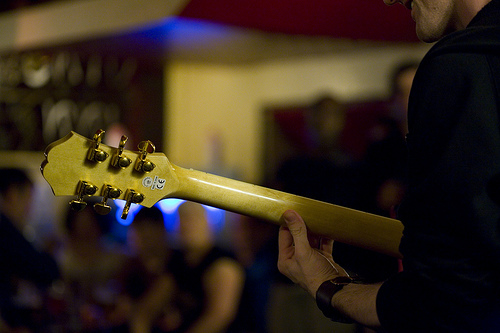guitar: (39, 128, 409, 270)
